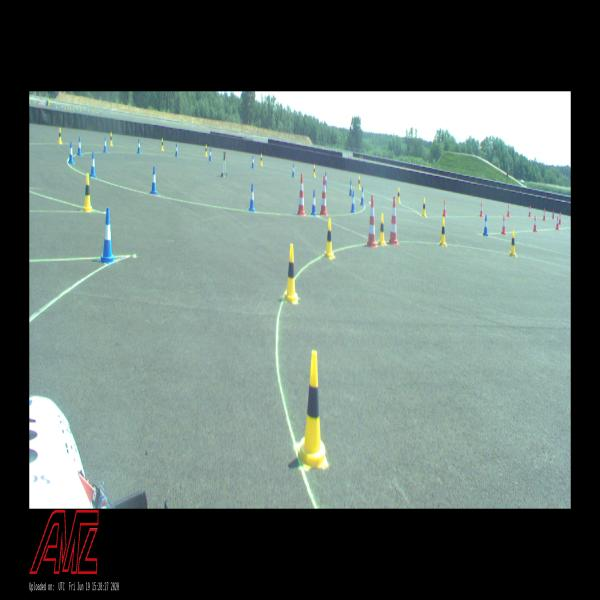blue_cone: (100, 208, 116, 263), (248, 183, 256, 211), (89, 151, 97, 179), (150, 167, 158, 194), (311, 190, 317, 216), (68, 142, 74, 164), (350, 191, 355, 213), (483, 215, 488, 236), (77, 137, 82, 156), (136, 139, 142, 154), (103, 136, 108, 153), (360, 187, 364, 206), (174, 144, 179, 157), (348, 180, 352, 196), (208, 148, 212, 162), (324, 172, 328, 186), (251, 156, 255, 169), (291, 164, 295, 177)
large_orange_cone: (365, 195, 377, 247), (388, 197, 399, 245), (297, 173, 306, 216), (319, 177, 328, 217)
orange_cone: (500, 214, 506, 236), (442, 200, 447, 217), (533, 216, 537, 232), (479, 202, 483, 217), (555, 216, 559, 229), (506, 204, 510, 217), (542, 209, 546, 221), (558, 213, 562, 224), (528, 206, 531, 217)
yellow_cone: (297, 350, 328, 469), (284, 245, 298, 303), (323, 219, 335, 260), (82, 174, 93, 212), (378, 213, 386, 245), (439, 218, 447, 247), (509, 230, 517, 258), (396, 187, 401, 204), (422, 198, 426, 218), (58, 128, 62, 144), (357, 175, 361, 190), (312, 164, 316, 178), (204, 144, 208, 157), (160, 138, 164, 151), (110, 132, 113, 146), (260, 154, 263, 166)
